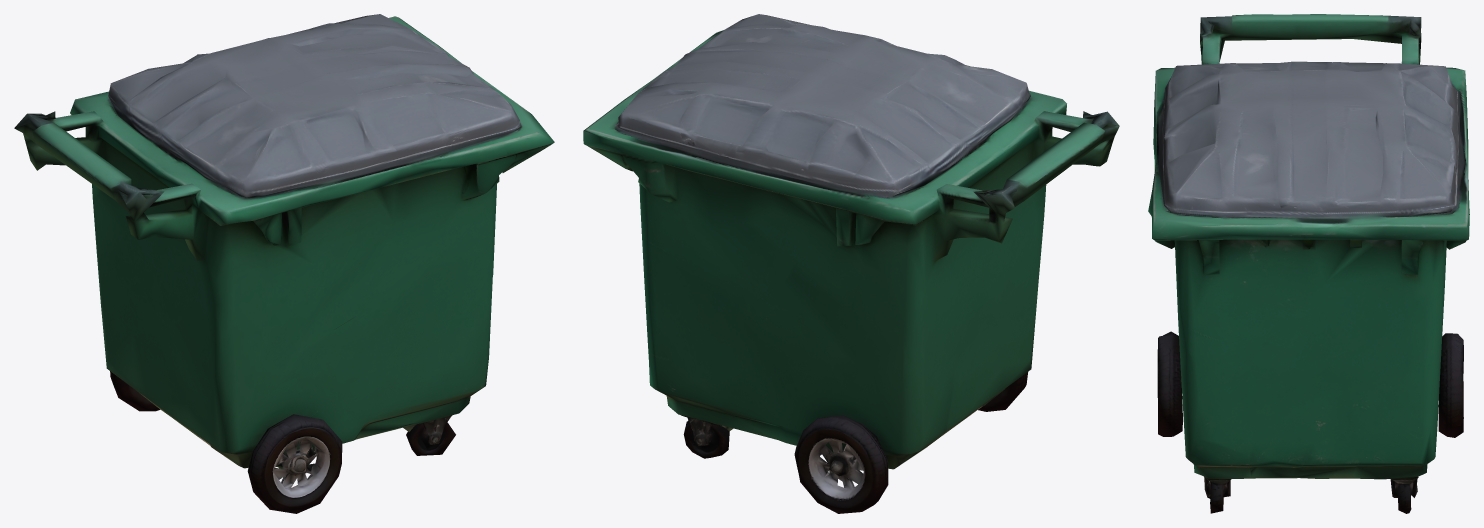
3 renders of one model, left to right at view 1: azimuth 30°, elevation 25°; view 2: azimuth 150°, elevation 25°; view 3: azimuth 270°, elevation 25°, orthographic.
Visible parts, largest first — view 1: tripo_node_4d8bcaf2-ef5c-496e-9718-32e5190d6630; view 2: tripo_node_4d8bcaf2-ef5c-496e-9718-32e5190d6630; view 3: tripo_node_4d8bcaf2-ef5c-496e-9718-32e5190d6630.
Part boxes in pixels (x1,y1,x2,y2): tripo_node_4d8bcaf2-ef5c-496e-9718-32e5190d6630: [14, 14, 554, 513]; tripo_node_4d8bcaf2-ef5c-496e-9718-32e5190d6630: [583, 14, 1119, 513]; tripo_node_4d8bcaf2-ef5c-496e-9718-32e5190d6630: [1148, 14, 1469, 513].
Bounding box in the file's own units: 1 × 0.8709 × 0.6768.
Materials: 1 (1 with a texture image).
